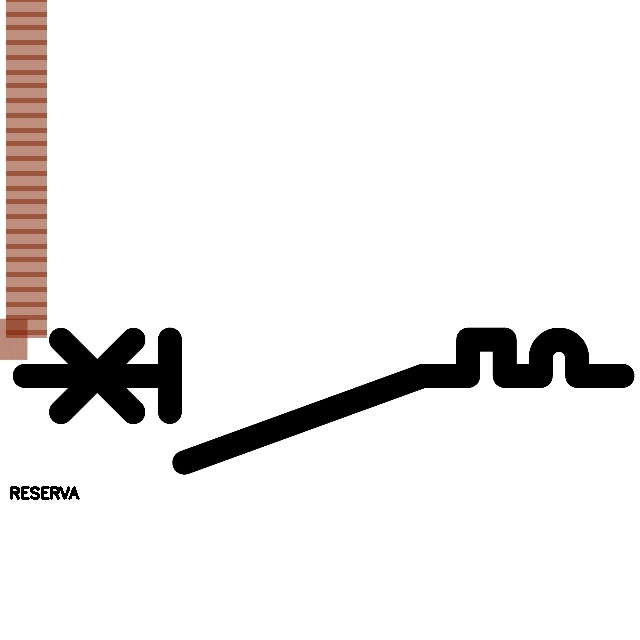interruptor_termomagnetico: (9, 324, 638, 478)
